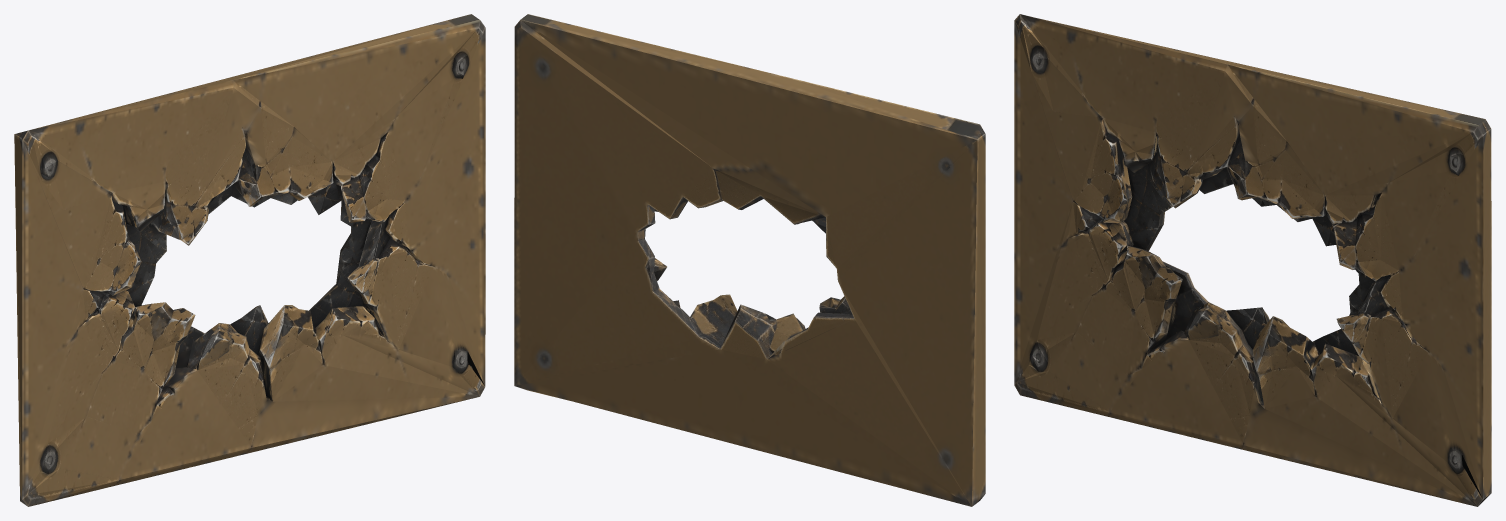
File: proboina-obshivka.glb
3 renders of one model, left to right at view 1: azimuth 30°, elevation 25°; view 2: azimuth 150°, elevation 25°; view 3: azimuth 330°, elevation 25°, orthographic.
Parts seen in each view (by area): view 1: proboina-obshivka; view 2: proboina-obshivka; view 3: proboina-obshivka.
Part boxes in pixels (box(x1,y1,x2,y2)): proboina-obshivka: box(14, 14, 485, 506); proboina-obshivka: box(514, 14, 985, 506); proboina-obshivka: box(1014, 14, 1491, 506).
Bounding box in the file's own units: 0.9 × 0.7 × 0.048.
Materials: 1 (1 with a texture image).
